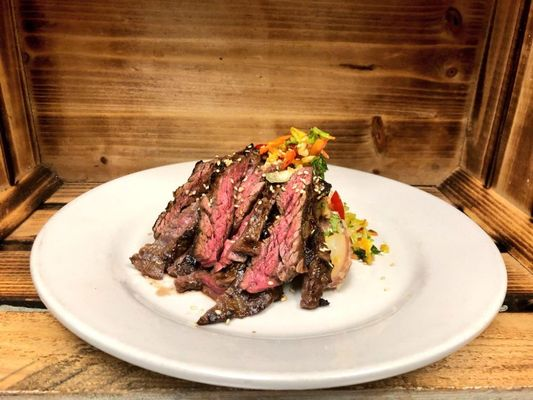burger: (438, 168, 533, 310)
